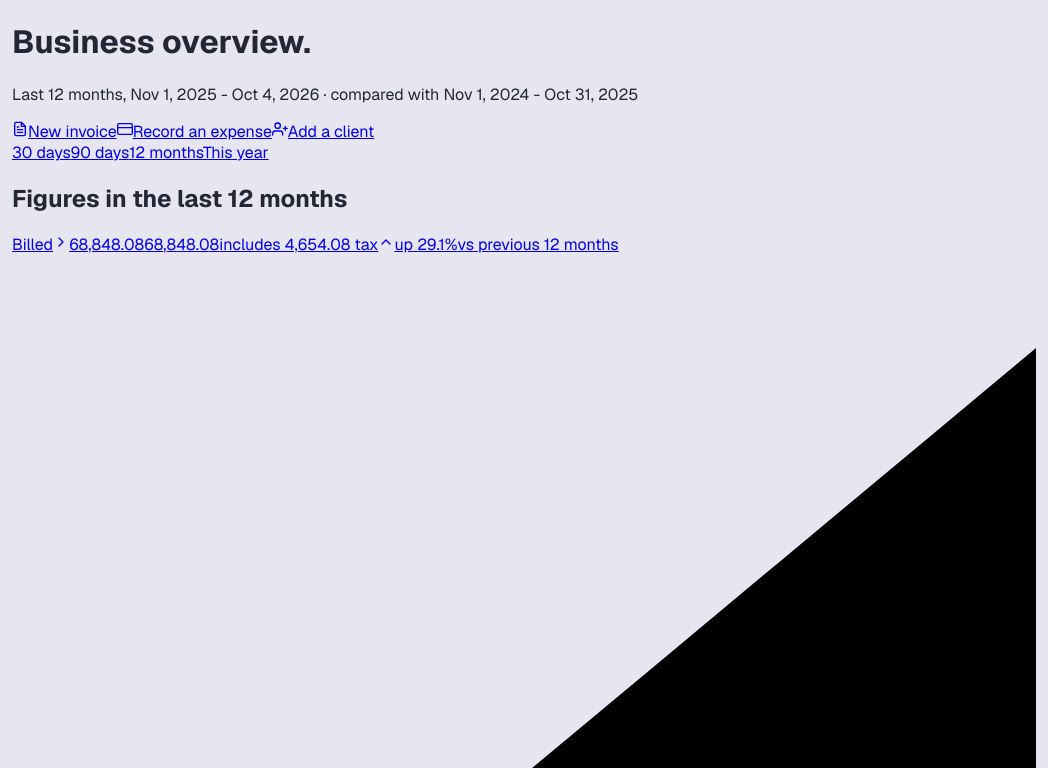
Test: keeps period in URL
Check: the heading "Figures in the last 12 months" is shown, box [12,183,347,214]
Click the link "90 days" at (100, 152), box [71,142,129,163]
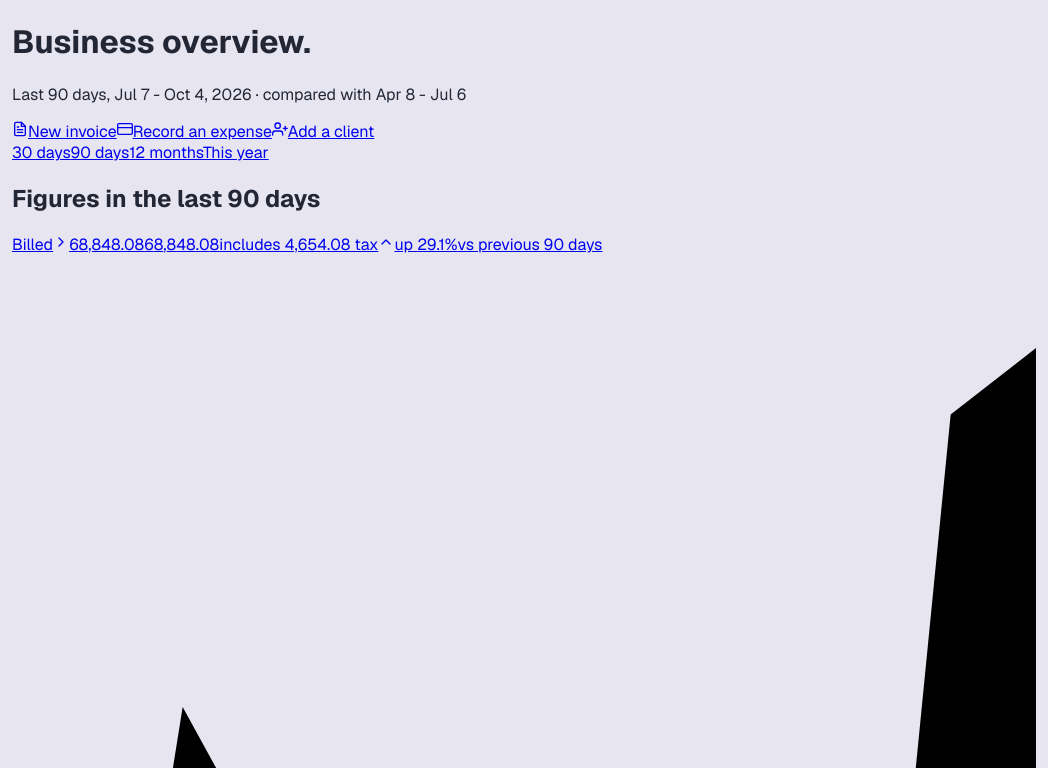
Check: the text "compared with Apr 8 - Jul 6" is shown, box [12,84,466,105]
